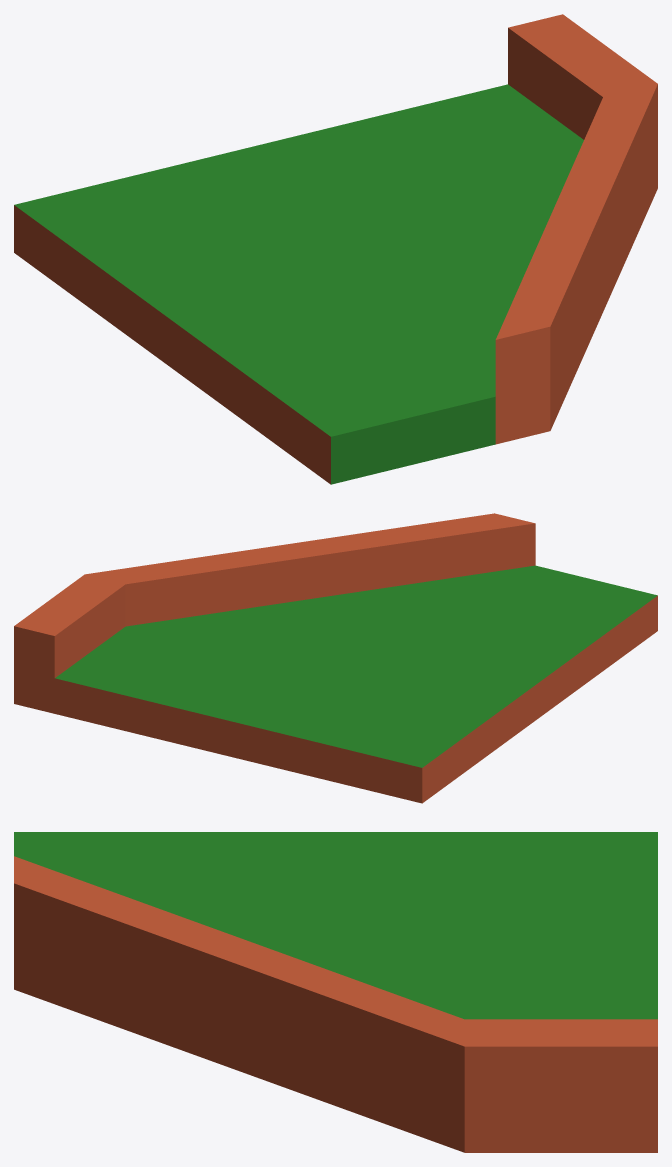
Rendered from floor_corner_cut_mirror.fbx.
The picture shows the model from 3 angles, top to bottom: view 1: azimuth 30°, elevation 25°; view 2: azimuth 150°, elevation 25°; view 3: azimuth 270°, elevation 25°; orthographic projection. The views are drawn at different scales.
Visible parts, largest first — view 1: Cube, Wall; view 2: Cube, Wall; view 3: Cube, Wall.
Part boxes in pixels (x1=…): Cube: x1=14, y1=84, x2=657, y2=484; Wall: x1=495, y1=14, x2=657, y2=396; Cube: x1=14, y1=565, x2=657, y2=803; Wall: x1=14, y1=513, x2=535, y2=678; Cube: x1=14, y1=832, x2=657, y2=1152; Wall: x1=14, y1=856, x2=657, y2=1104.
Bounding box in the file's own units: 240 × 43.69 × 240.
